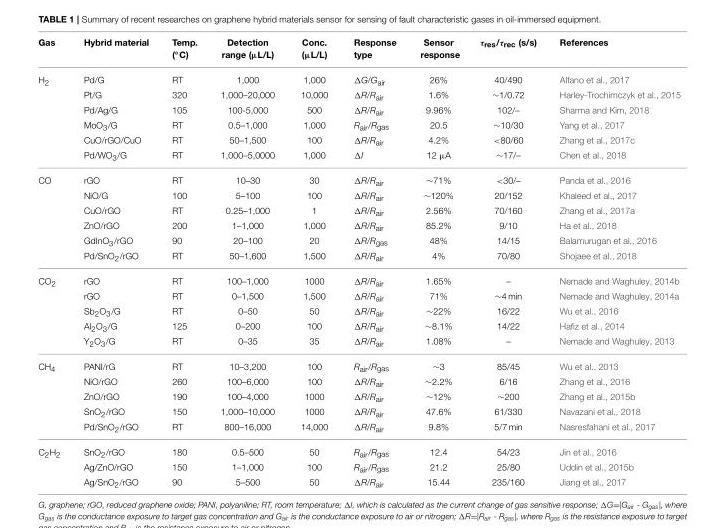table: (37, 37, 680, 488)
table column: (547, 37, 680, 488), (71, 37, 159, 488), (208, 37, 286, 488), (469, 37, 547, 488), (340, 37, 407, 488), (407, 37, 469, 488), (286, 37, 340, 488), (159, 37, 208, 488), (37, 37, 71, 488)
table column header: (37, 37, 680, 67)
table row: (37, 37, 680, 67), (37, 67, 680, 88), (37, 248, 680, 269), (37, 419, 680, 440), (37, 148, 680, 168), (37, 168, 680, 188), (37, 269, 680, 289), (37, 334, 680, 354), (37, 354, 680, 374), (37, 440, 680, 460), (37, 88, 680, 103), (37, 103, 680, 118), (37, 118, 680, 133), (37, 133, 680, 148), (37, 188, 680, 203), (37, 203, 680, 218), (37, 218, 680, 233), (37, 233, 680, 248), (37, 289, 680, 304), (37, 304, 680, 319), (37, 319, 680, 334), (37, 374, 680, 389), (37, 389, 680, 404), (37, 404, 680, 419), (37, 460, 680, 475), (37, 475, 680, 488)
table spanning cell: (37, 67, 71, 168), (37, 168, 71, 269), (37, 354, 71, 440), (37, 269, 71, 354), (37, 440, 71, 488)
